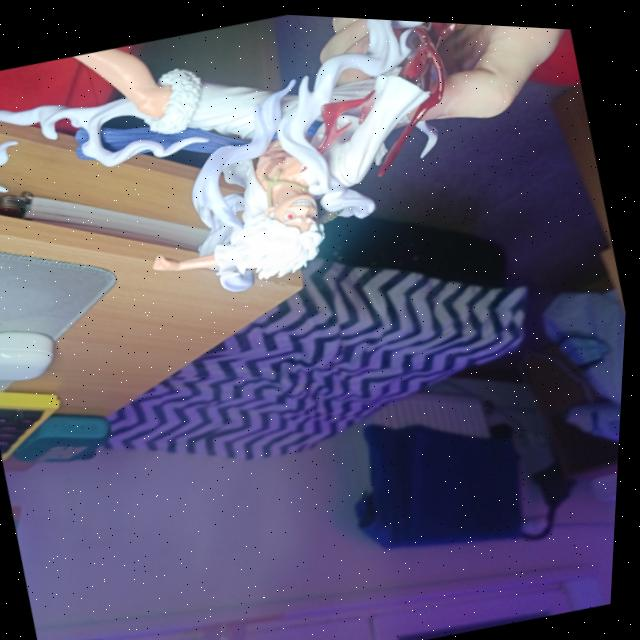luffy: (0, 0, 497, 376)
